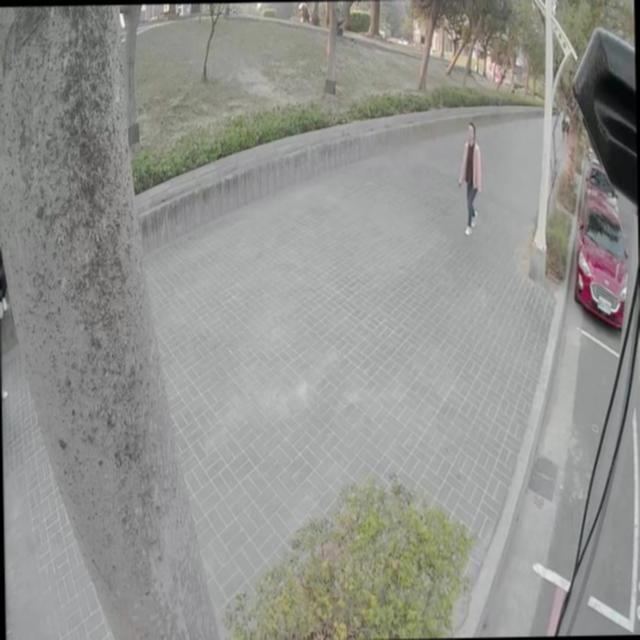person: (457, 120, 480, 236)
